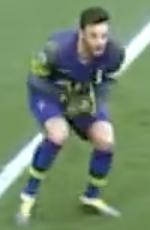goalkeeper: (10, 2, 140, 230)
